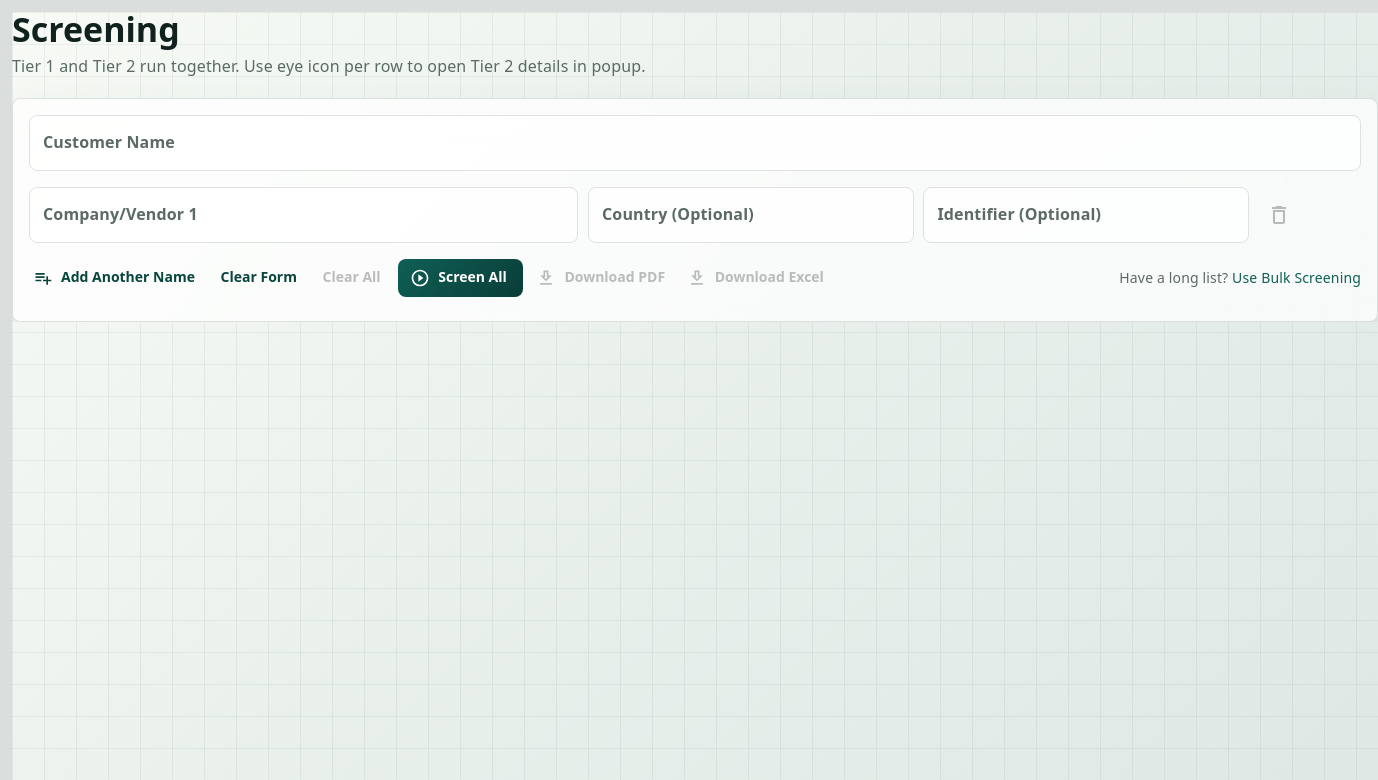
ScreeningPage › validates required fields
The image size is (1378, 780).
Click the button "Screen All".
click(460, 278)  # box [398,259,523,297]
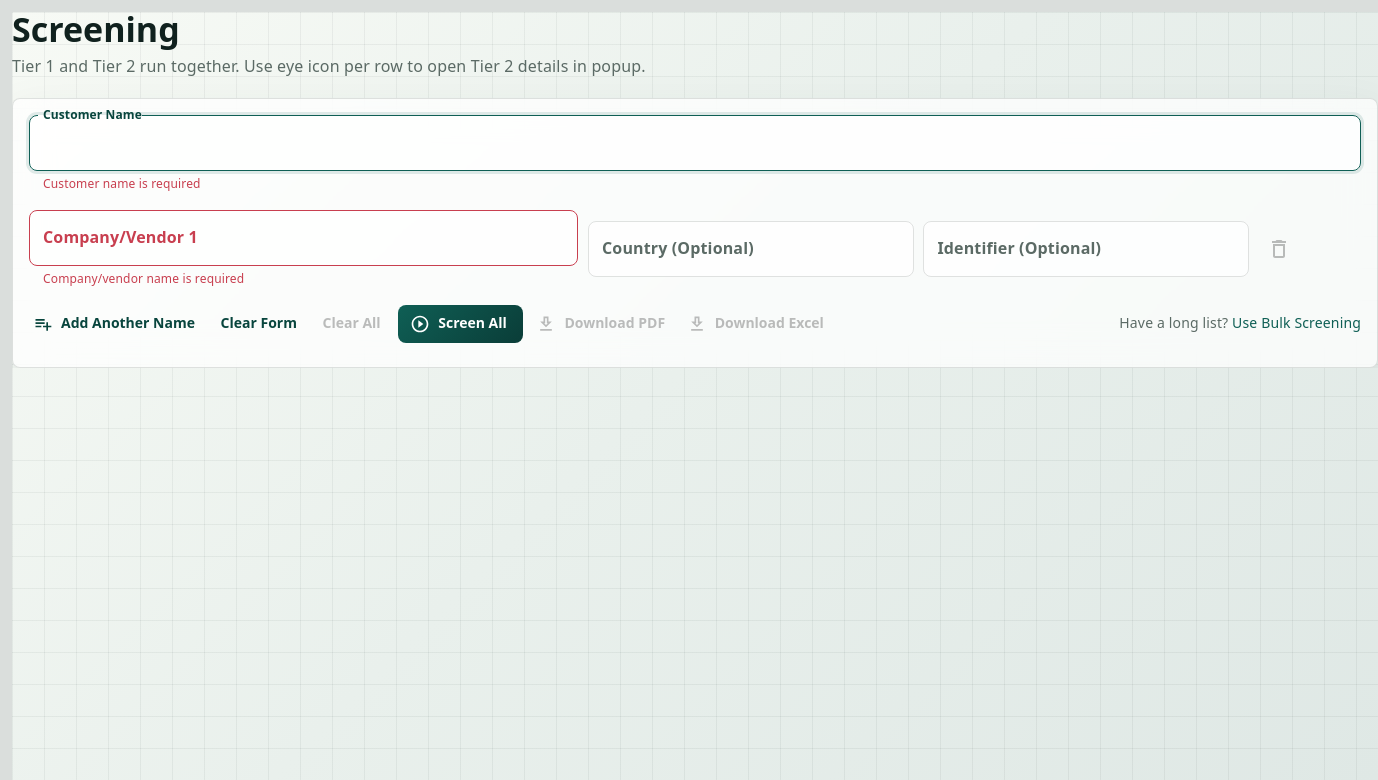
Now the text "Customer name is required" is shown, box [43,175,201,192]
